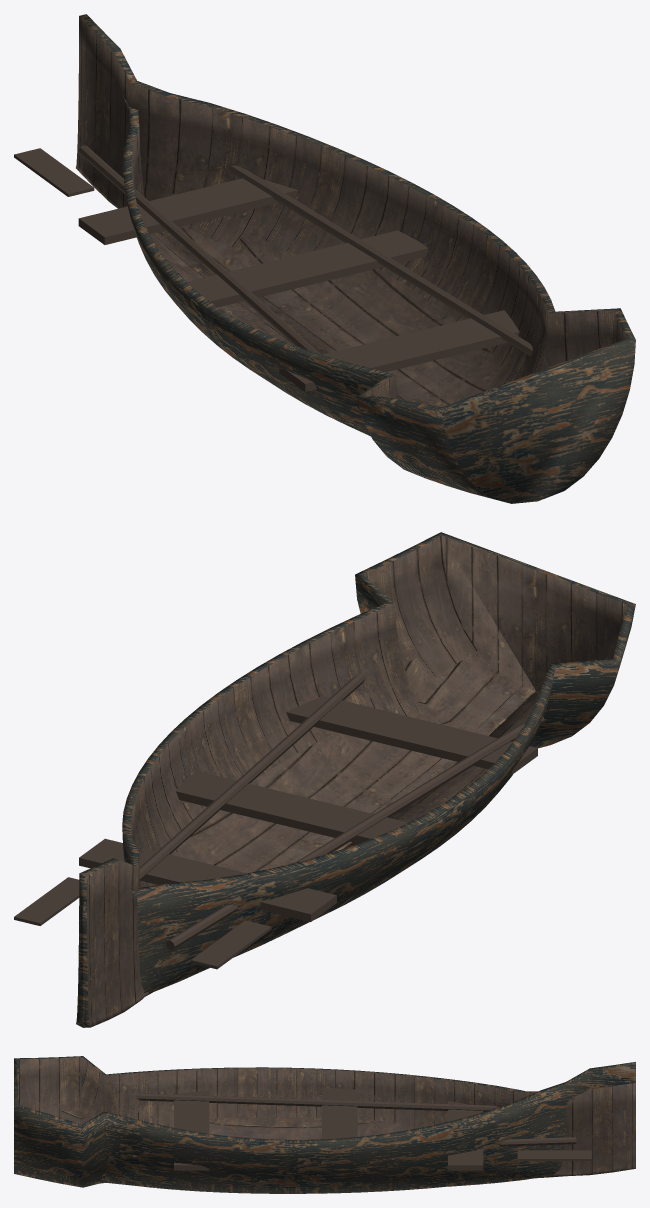
The model's file is rowboat.glb.
The picture shows the model from 3 angles, top to bottom: view 1: azimuth 30°, elevation 25°; view 2: azimuth 150°, elevation 25°; view 3: azimuth 270°, elevation 25°; orthographic projection. The views are drawn at different scales.
Parts seen in each view (by area): view 1: rowboat; view 2: rowboat; view 3: rowboat.
Part boxes in pixels (x1=…): rowboat: x1=14, y1=14, x2=635, y2=503; rowboat: x1=14, y1=532, x2=635, y2=1027; rowboat: x1=14, y1=1056, x2=635, y2=1193.
Size of the model in its own units: 1.44 by 0.8801 by 4.2.
2 materials, 2 textured.
